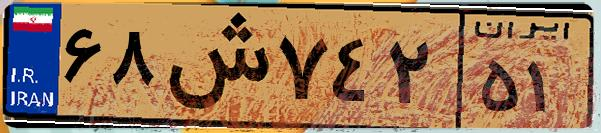1: (525, 38, 570, 115)
2: (385, 28, 445, 110)
4: (330, 28, 385, 110)
5: (475, 38, 525, 113)
6: (57, 26, 110, 100)
7: (270, 28, 330, 110)
8: (110, 28, 158, 98)
ش: (158, 12, 270, 120)
